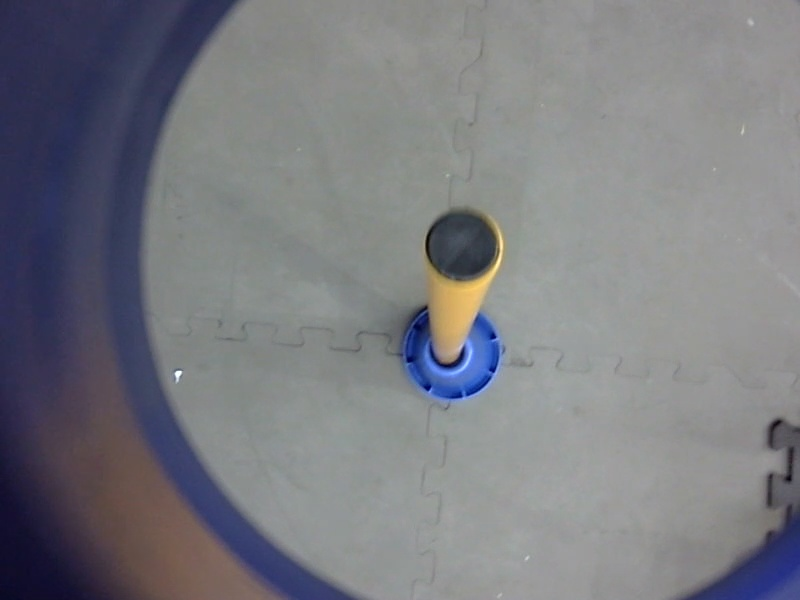tip: (417, 203, 508, 292)
